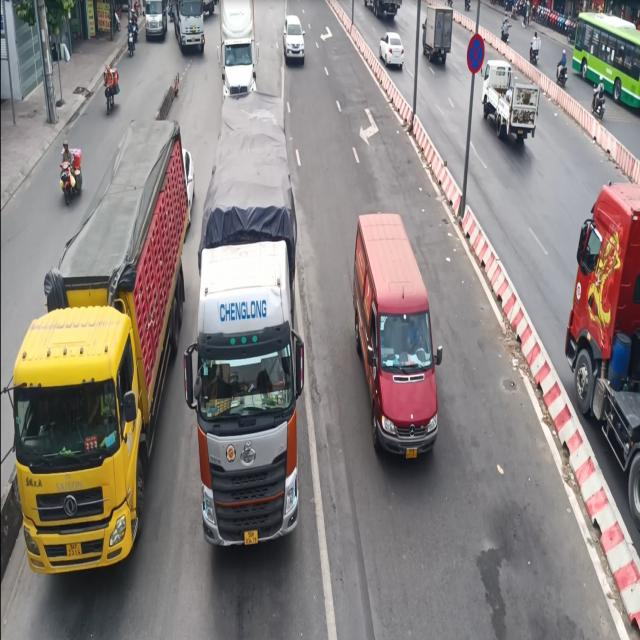car: (348, 200, 447, 480), (279, 5, 307, 69)
truck: (10, 111, 193, 590), (189, 93, 313, 566)
